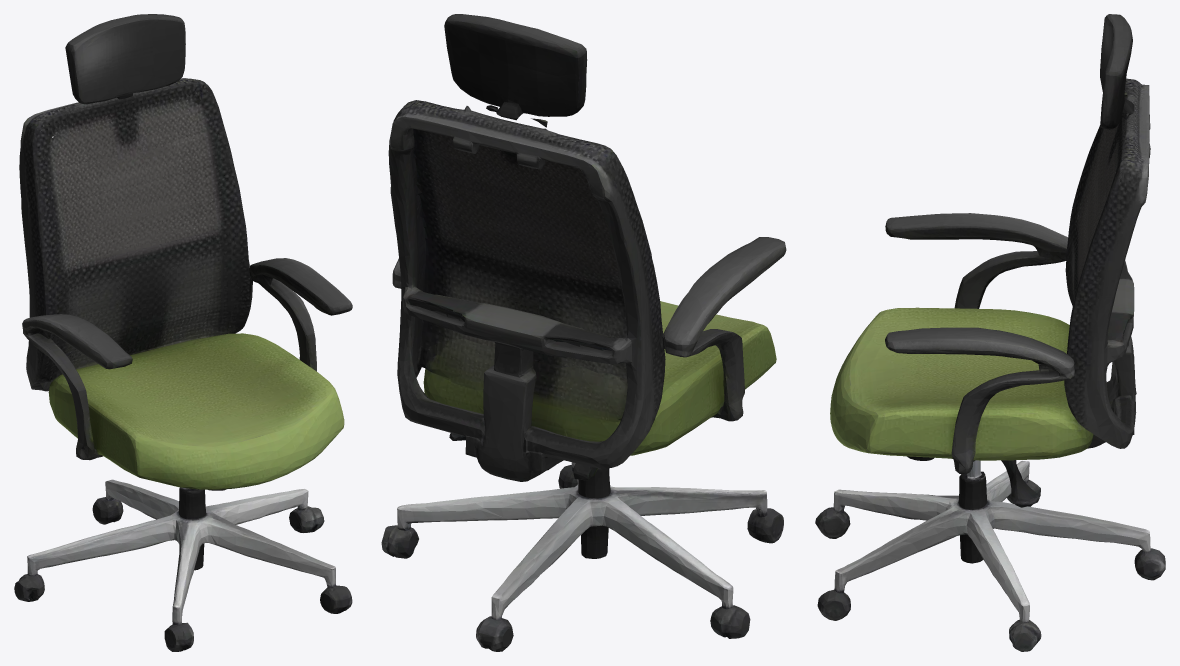
Rendered from d458a4a3-f544-4b4d-afd1-a70b54e4c59f.glb.
3 renders of one model, left to right at view 1: azimuth 30°, elevation 25°; view 2: azimuth 150°, elevation 25°; view 3: azimuth 270°, elevation 25°, orthographic. The views are drawn at different scales.
Parts seen in each view (by area): view 1: world; view 2: world; view 3: world.
Boxes of the visible parts, x1,y1,x2,y2 form: world: (14, 14, 352, 651); world: (381, 14, 786, 651); world: (815, 14, 1165, 651).
Size of the model in its own units: 0.6191 by 1 by 0.5854.
1 material, 1 textured.
